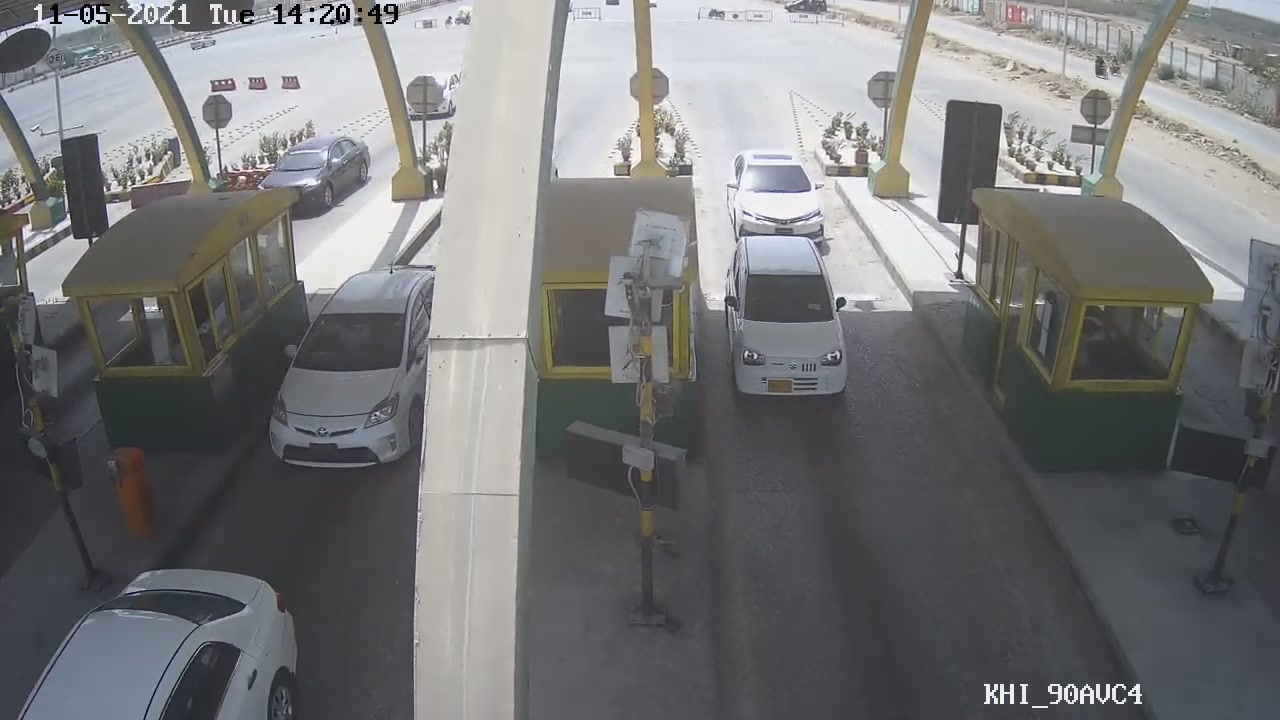F1: (721, 233, 852, 419)
